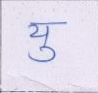u_matra: (28, 45, 58, 63)
